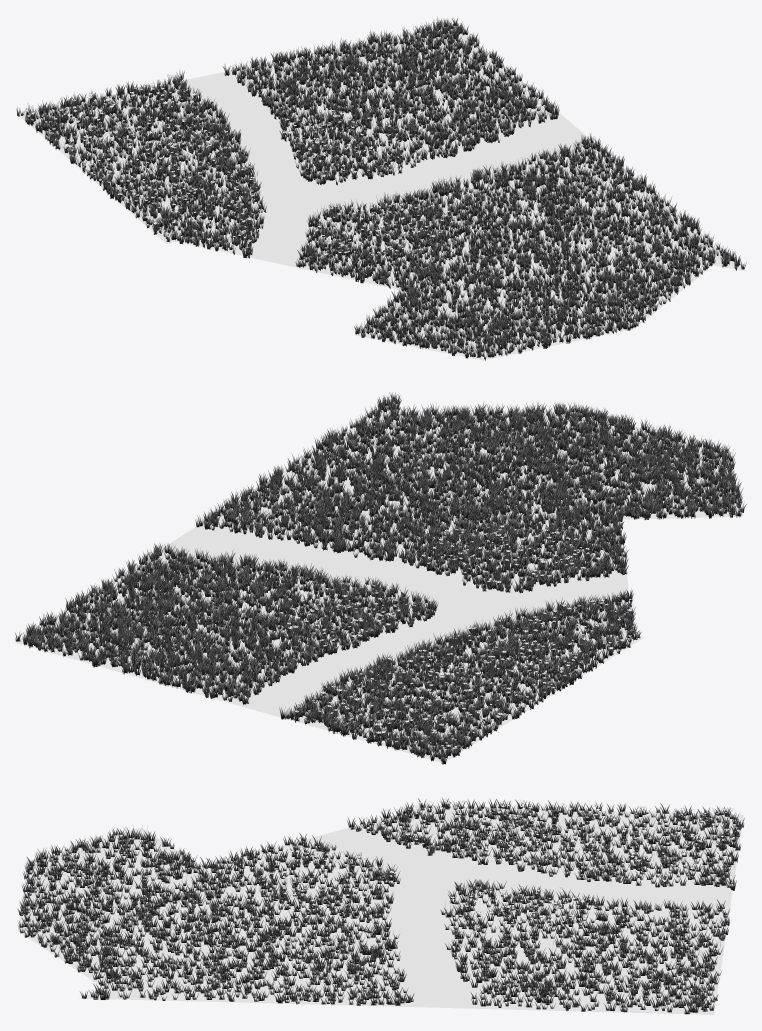
File: ground.glb
The picture shows the model from 3 angles, top to bottom: view 1: azimuth 30°, elevation 25°; view 2: azimuth 150°, elevation 25°; view 3: azimuth 270°, elevation 25°; orthographic projection. The views are drawn at different scales.
Visible parts, largest first — view 1: ground.002; view 2: ground.002; view 3: ground.002.
Boxes of the visible parts, x1=… form: ground.002: x1=16, y1=18, x2=746, y2=360; ground.002: x1=14, y1=392, x2=746, y2=764; ground.002: x1=17, y1=798, x2=744, y2=1014.
Size of the model in its own units: 5.84 by 0.1774 by 8.55.
6 materials, 5 textured.
